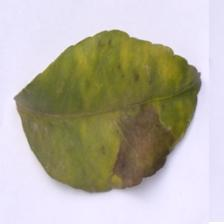black spot: (104, 99, 182, 185)
